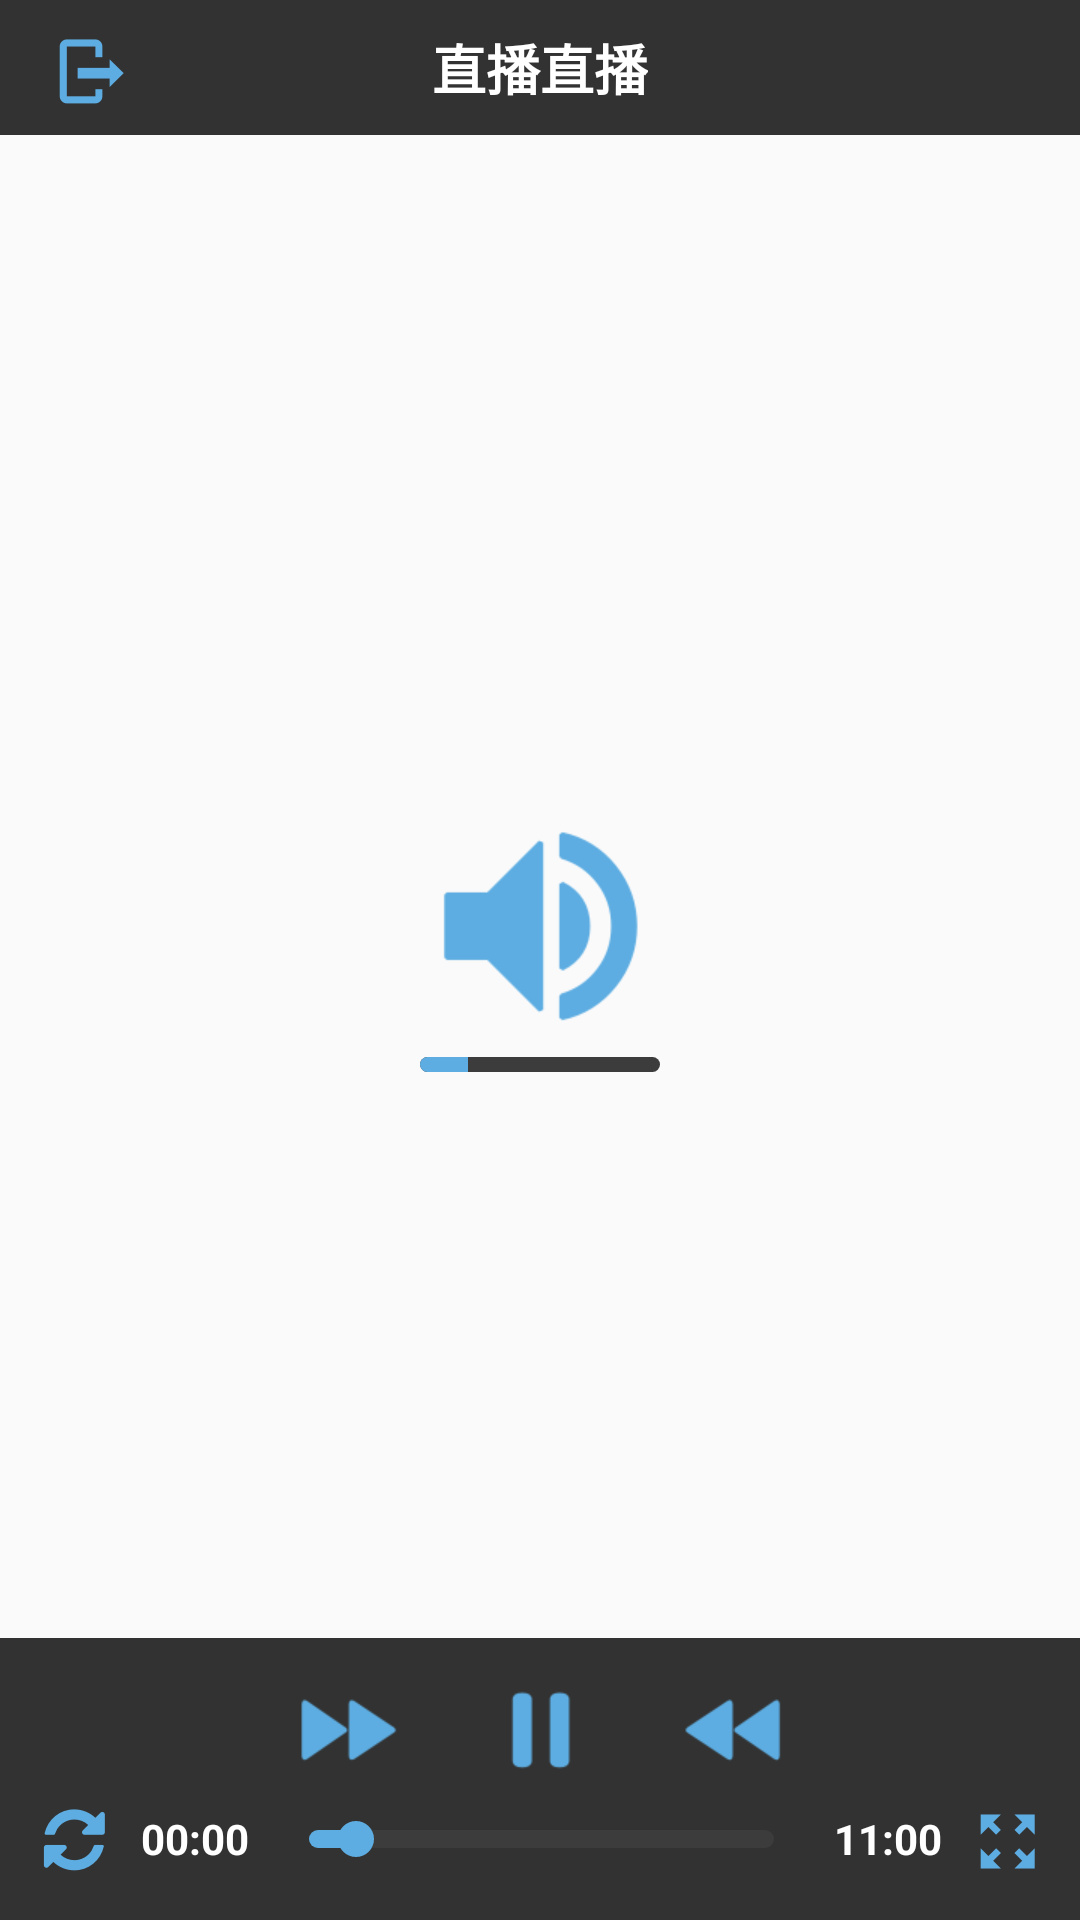

Icons on this 1080 × 1920 Android screen, each with the point to tap as point (x, y):
fullscreen stretch: point (1007, 1841)
pause: point (541, 1730)
repeat: point (74, 1840)
video top back: point (91, 71)
